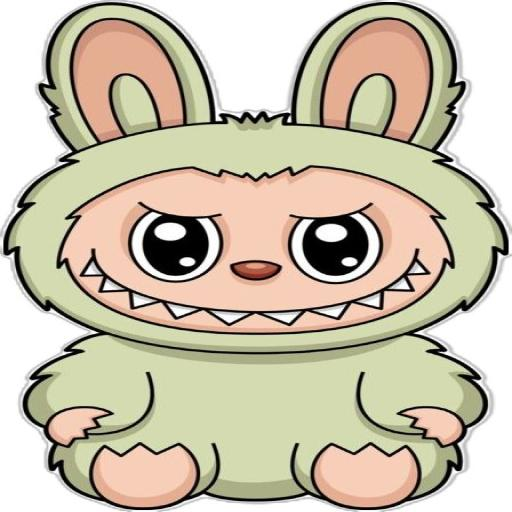labubu: (31, 8, 503, 512)
